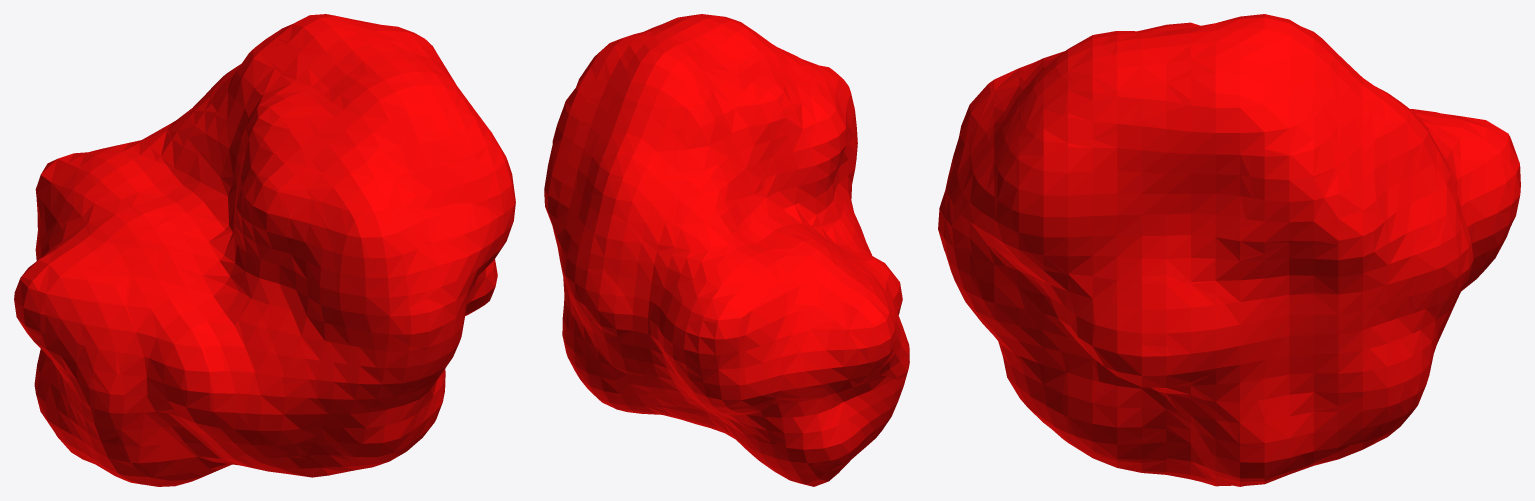
The model's file is ugpQ_coarse.dae.
The picture shows the model from 3 angles, left to right: view 1: azimuth 30°, elevation 25°; view 2: azimuth 150°, elevation 25°; view 3: azimuth 270°, elevation 25°; orthographic projection. The views are drawn at different scales.
Parts seen in each view (by area): view 1: ugpQ; view 2: ugpQ; view 3: ugpQ.
Part boxes in pixels (x1=…): ugpQ: x1=14, y1=14, x2=515, y2=486; ugpQ: x1=544, y1=14, x2=909, y2=486; ugpQ: x1=938, y1=14, x2=1520, y2=486.
Size of the model in its own units: 47.36 by 47.73 by 52.87.
